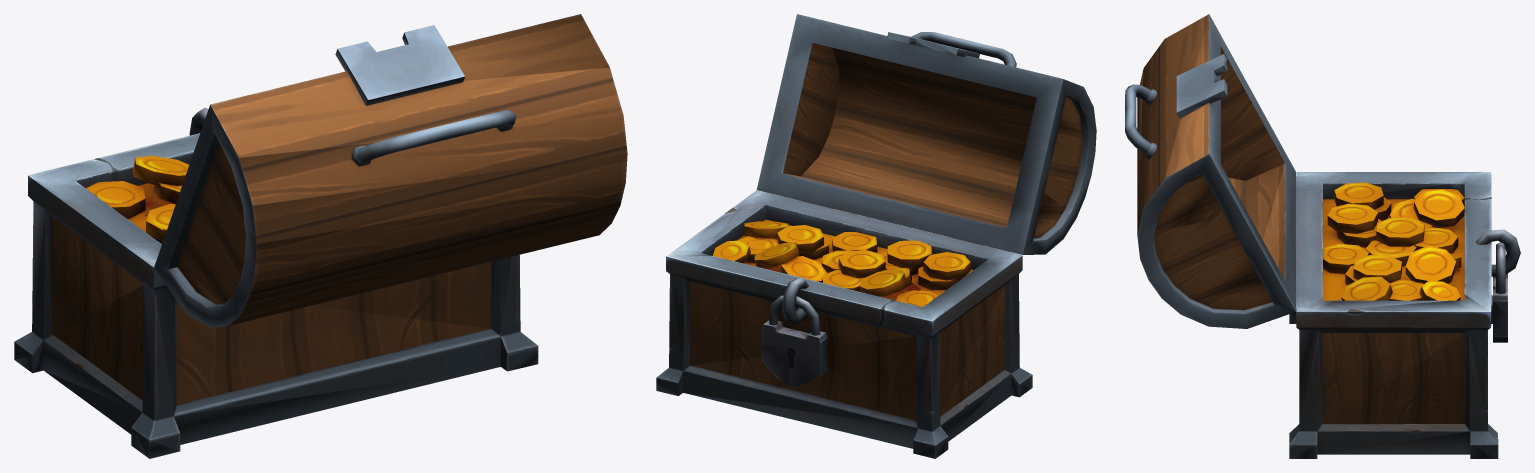
The model's file is ar_treasure_chest_0513b.gltf.
3 renders of one model, left to right at view 1: azimuth 30°, elevation 25°; view 2: azimuth 150°, elevation 25°; view 3: azimuth 270°, elevation 25°, orthographic. The views are drawn at different scales.
Parts seen in each view (by area): view 1: Chest.2, Chest.1, Chest.28, Chest.29, Chest.16, Chest.21, Chest.5; view 2: Chest.2, Chest.1, Chest.3, Chest.5, Chest.29, Chest.18, Chest.17, Chest.21, Chest.19, Chest.10, Chest.20, Chest.25 (+9 smaller); view 3: Chest.1, Chest.2, Chest.28, Chest.21, Chest.10, Chest.17, Chest.18, Chest.29, Chest.19, Chest.5, Chest.13, Chest.14 (+9 smaller).
Part boxes in pixels (x1,y1,x2,y2): Chest.2: (154, 14, 627, 327); Chest.1: (14, 133, 538, 458); Chest.28: (335, 25, 465, 105); Chest.29: (351, 110, 516, 166); Chest.16: (86, 181, 145, 218); Chest.21: (133, 155, 189, 185); Chest.5: (146, 204, 175, 241); Chest.2: (756, 14, 1096, 254); Chest.1: (656, 190, 1032, 458); Chest.3: (762, 320, 827, 388); Chest.5: (923, 252, 970, 280); Chest.29: (911, 32, 1016, 67); Chest.18: (838, 250, 885, 278); Chest.17: (887, 240, 931, 267); Chest.21: (858, 269, 906, 296); Chest.19: (777, 225, 823, 252); Chest.10: (754, 242, 799, 268); Chest.20: (779, 256, 826, 282); Chest.25: (782, 277, 809, 325); Chest.1: (1289, 172, 1498, 458); Chest.2: (1137, 14, 1295, 328); Chest.28: (1176, 54, 1227, 118); Chest.21: (1413, 189, 1464, 227); Chest.10: (1405, 246, 1455, 283); Chest.17: (1327, 203, 1377, 233); Chest.18: (1376, 217, 1424, 246); Chest.29: (1125, 84, 1156, 158); Chest.19: (1353, 255, 1401, 282); Chest.5: (1334, 182, 1383, 209); Chest.13: (1341, 276, 1392, 300); Chest.14: (1323, 243, 1368, 273).
Size of the model in its own units: 470 by 468 by 536.
Materials: 1 (1 with a texture image).
